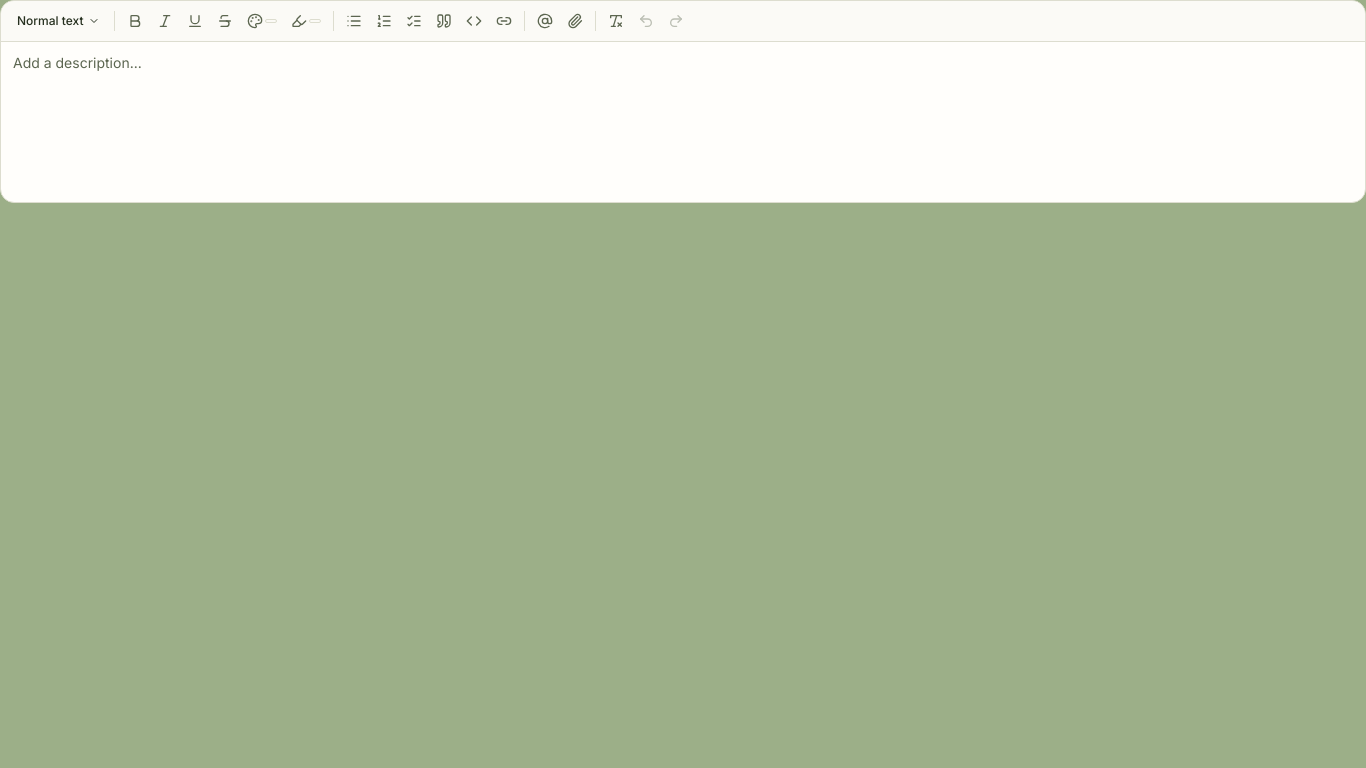
it: RichTextEditor › menus › the text style menu closes on a click elsewhere
Click the button with aria-label "Text style" at {"x": 58, "y": 21}, box [9, 7, 108, 35]
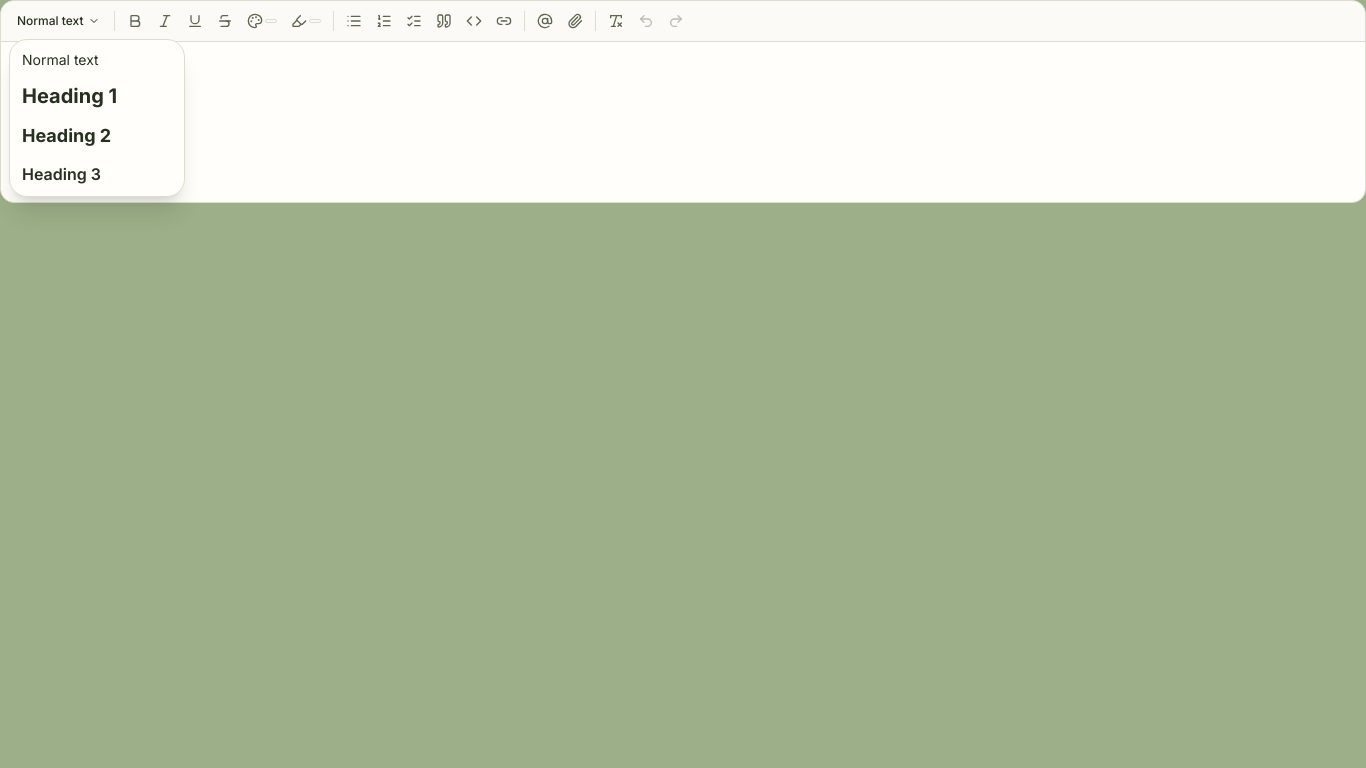
Press the mouse on the element showing "Normal text Normal text Heading 1 Heading 2 Heading 3" at {"x": 683, "y": 384}, box [0, 0, 1365, 767]
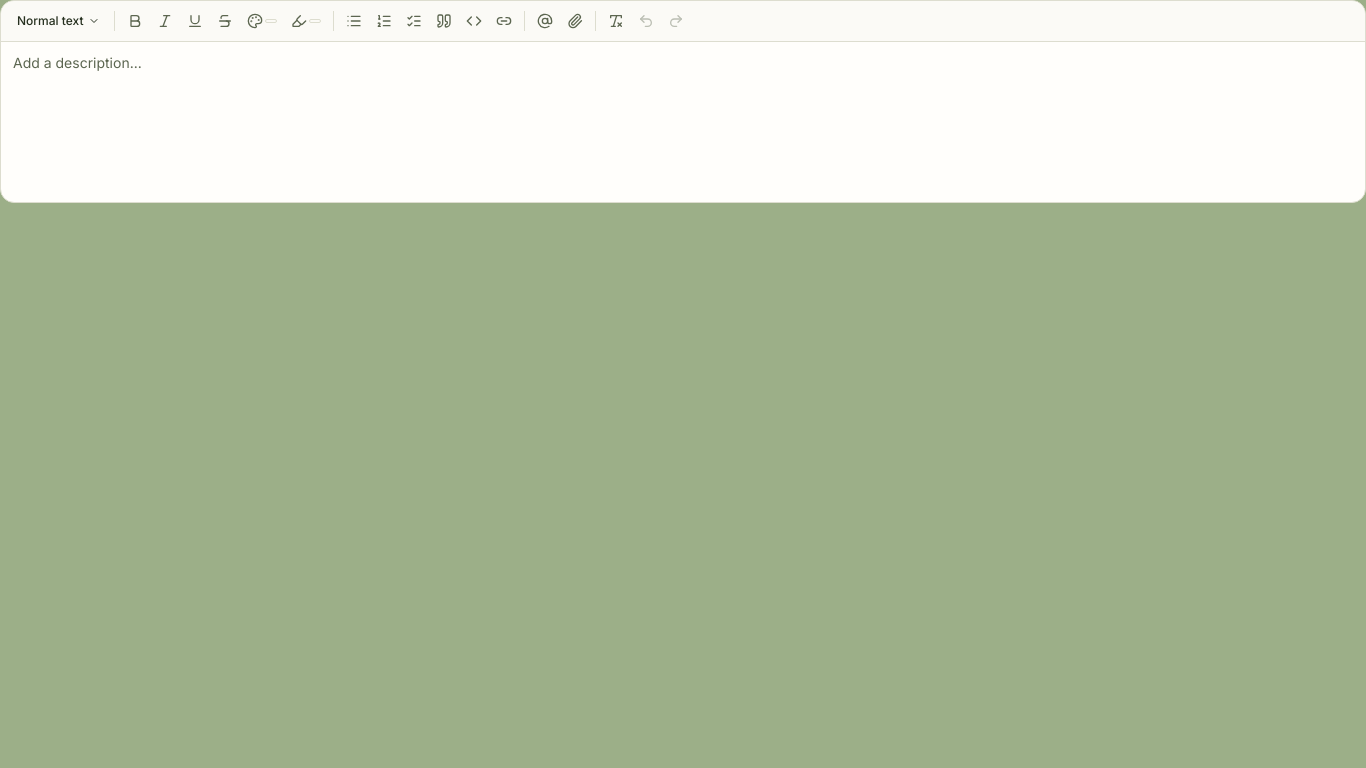
Check: the menu is gone
